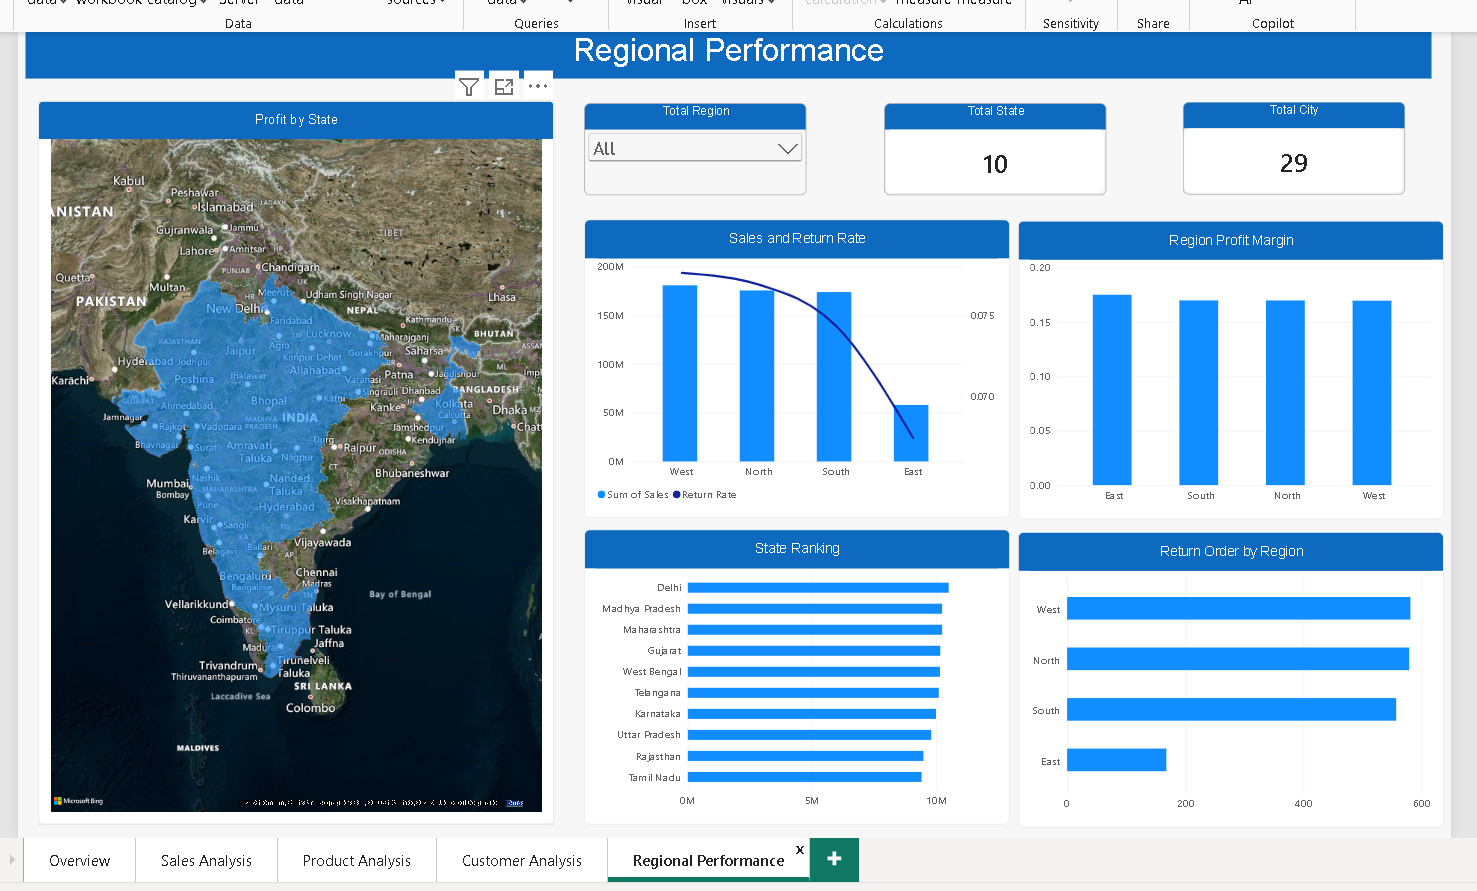

What the dashboard file says about the page in this screenshot:
{"tool":"powerbi","page":{"name":"Regional Performance","canvas":[1920,1080],"ordinal":4},"visuals":[{"type":"textbox","box":[10.5,0,1883.7,62.8],"z":0},{"type":"cardVisual","title":"Total State","fields":{"Data":["Count(Sales_Data.State)"]},"box":[1160.2,94.8,297.7,123],"z":0,"group":"g1"},{"type":"filledMap","title":"Profit by State","fields":{"Category":["Sales_Data.State"]},"box":[26.8,92.1,691.8,969.8],"z":1000},{"type":"cardVisual","title":"Total City","fields":{"Data":["Count(Sales_Data.City)"]},"box":[1561.5,93.8,297.7,123.9],"z":1000,"group":"g1"},{"type":"slicer","title":"Total Region","fields":{"Values":["Sales_Data.Region"]},"box":[758.8,94.8,297.7,123],"z":2000,"group":"g1"},{"type":"clusteredBarChart","title":" State Ranking","fields":{"Category":["Sales_Data.State"],"Y":["Sum(Sales_Data.Profit)"]},"box":[759.5,665.9,570,395],"z":2000},{"type":"lineClusteredColumnComboChart","title":" Region Profit Margin","fields":{"Category":["Sales_Data.Region"],"Y":["Sales_Data.Profit Margin"]},"box":[1340,252.9,570,400],"z":3000},{"type":"group","id":"g1","title":"Group 1","box":[758.8,93.8,1100.4,123.9],"z":4000},{"type":"clusteredBarChart","title":"Return Order by Region","fields":{"Category":["Sales_Data.Region"],"Y":["Sales_Data.Returned Orders"]},"box":[1340,670,570,396],"z":5000},{"type":"lineClusteredColumnComboChart","title":"Sales and Return Rate","fields":{"Category":["Sales_Data.Region"],"Y":["Sum(Sales_Data.Sales)"],"Y2":["Sales_Data.Return Rate"]},"box":[759.5,252,570,400],"z":6000}]}

Visuals, with their boxes on the page's 1920x1080 design canvas (x1, y1, x2, y2). These are canvas units, not pixel positions in the 1477x891 screenshot, which may show the page scaled, cropped or inside an application window:
textbox: 10, 0, 1894, 63
"Total State" cardVisual: 1160, 95, 1458, 218
"Profit by State" filledMap: 27, 92, 719, 1062
"Total City" cardVisual: 1562, 94, 1859, 218
"Total Region" slicer: 759, 95, 1056, 218
" State Ranking" clusteredBarChart: 760, 666, 1330, 1061
" Region Profit Margin" lineClusteredColumnComboChart: 1340, 253, 1910, 653
"Group 1" group: 759, 94, 1859, 218
"Return Order by Region" clusteredBarChart: 1340, 670, 1910, 1066
"Sales and Return Rate" lineClusteredColumnComboChart: 760, 252, 1330, 652
